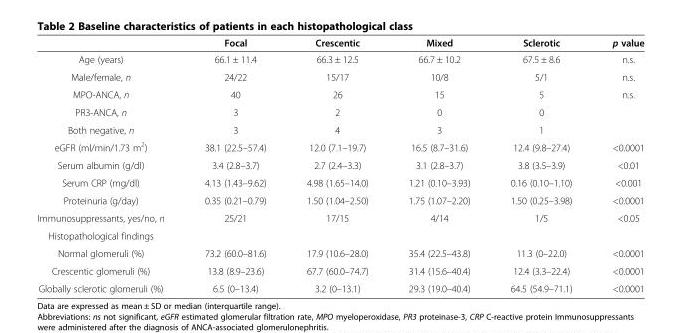table: (36, 36, 643, 293)
table column: (36, 36, 183, 293), (183, 36, 285, 293), (285, 36, 387, 293), (387, 36, 489, 293), (489, 36, 591, 293), (591, 36, 643, 293)
table column header: (36, 36, 643, 50)
table projected row header: (36, 226, 643, 244)
table row: (36, 137, 643, 156), (36, 67, 643, 85), (36, 85, 643, 103), (36, 173, 643, 191), (36, 208, 643, 226), (36, 226, 643, 244), (36, 261, 643, 279), (36, 50, 643, 67), (36, 103, 643, 120), (36, 120, 643, 137), (36, 156, 643, 173), (36, 191, 643, 208), (36, 244, 643, 261), (36, 36, 643, 50), (36, 279, 643, 293)
